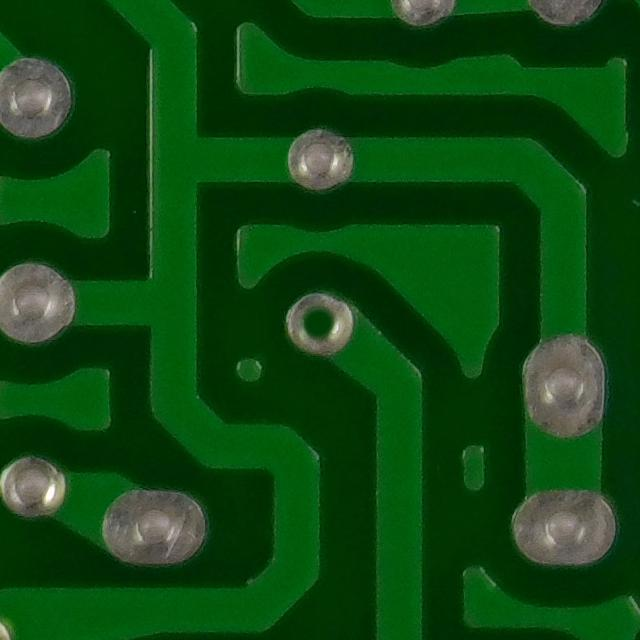missing_hole: (284, 290, 356, 351)
